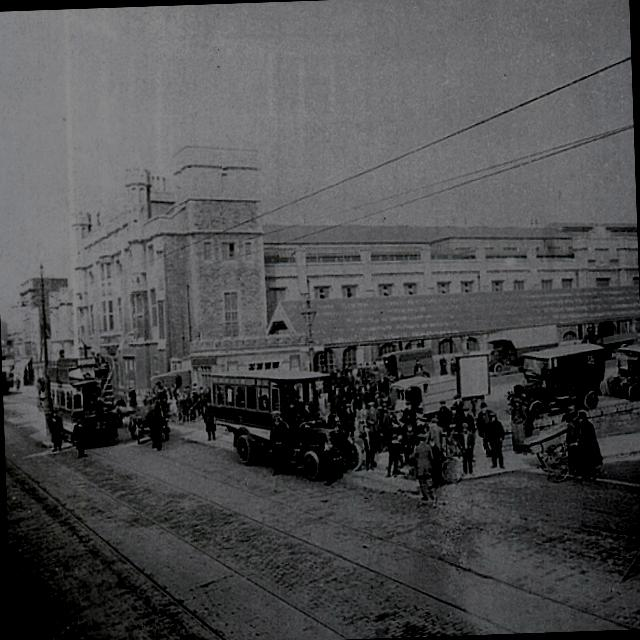Vehicle: (208, 367, 360, 483), (502, 341, 610, 421), (48, 376, 118, 446), (486, 326, 560, 378), (403, 372, 460, 416), (630, 348, 640, 387), (52, 382, 75, 394)
